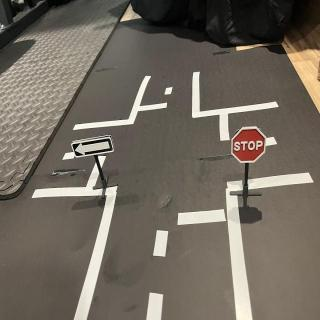sign_oneway_left: (71, 137, 117, 159)
sign_stop: (232, 128, 267, 164)
